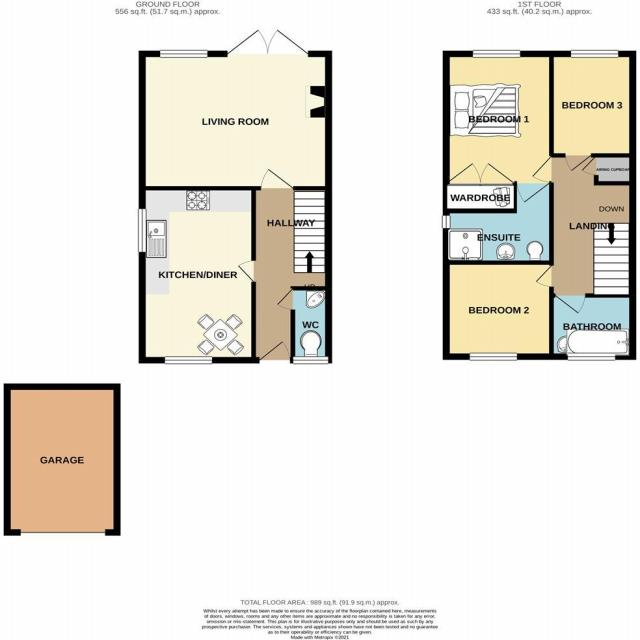DOOR: (257, 166, 296, 193), (513, 181, 555, 206), (257, 338, 295, 365), (553, 292, 588, 316), (528, 154, 555, 185), (563, 152, 596, 174), (235, 258, 258, 284), (274, 288, 296, 313)
DOUBLE DOOR: (223, 26, 312, 58)
ROOM: (137, 28, 334, 192), (137, 185, 257, 363), (441, 49, 555, 205), (442, 259, 555, 361), (548, 49, 637, 174), (532, 264, 555, 290)
WINDOW: (471, 47, 523, 59), (158, 48, 209, 60), (569, 48, 620, 60), (164, 354, 214, 366), (565, 351, 618, 362), (136, 207, 148, 254), (467, 352, 519, 362), (292, 354, 331, 365)
